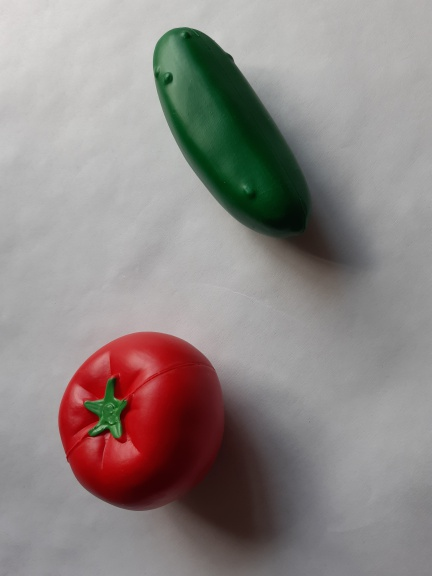cucumber: (146, 21, 315, 251)
tomato: (43, 321, 237, 521)
